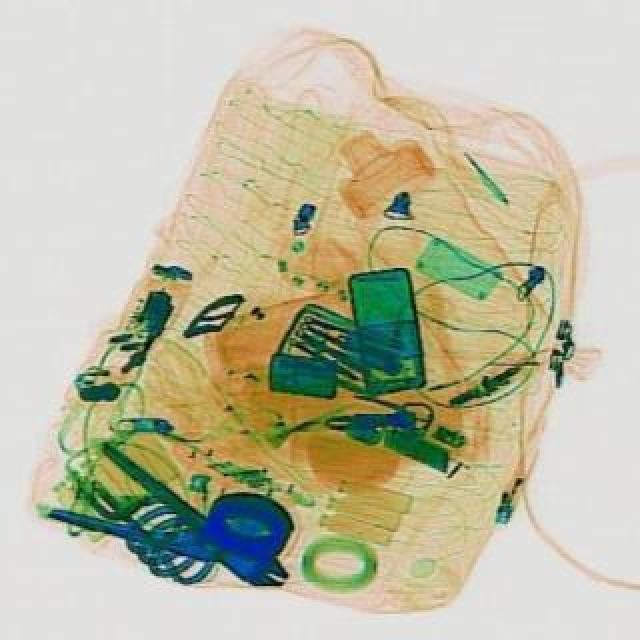wrench: (42, 432, 308, 624)
